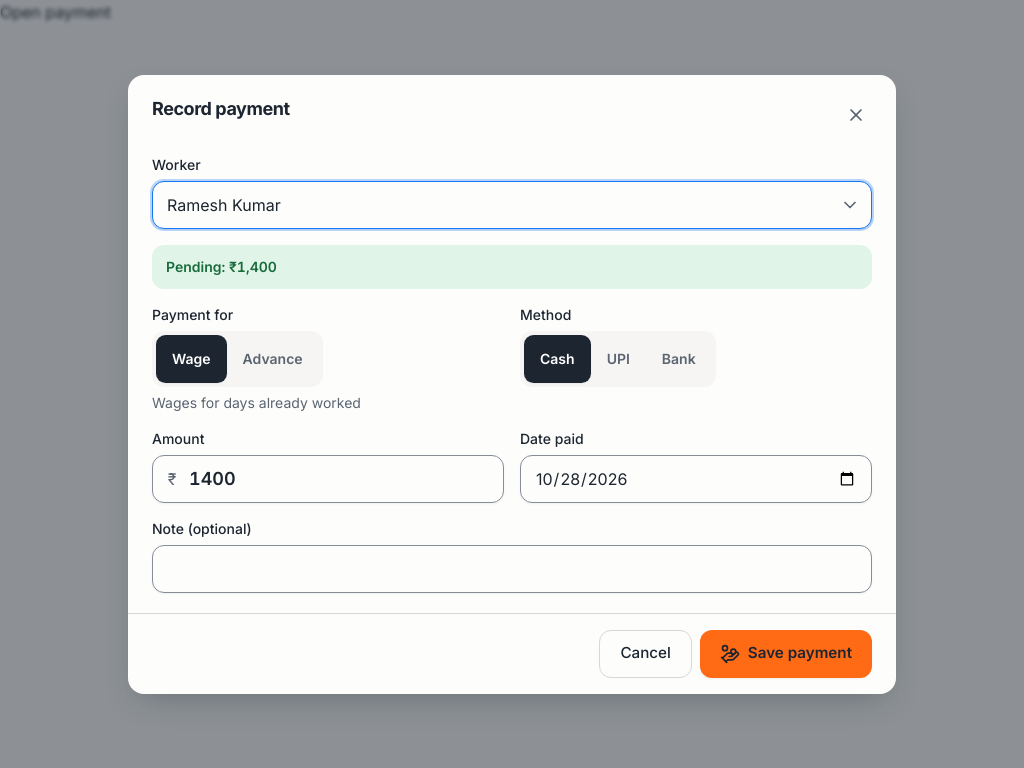
Test: RecordPaymentModal › shows one message for the amount "0"
Replace the text in the field labelled "Amount" with "0": {"x": 328, "y": 478} [152,454,504,502]
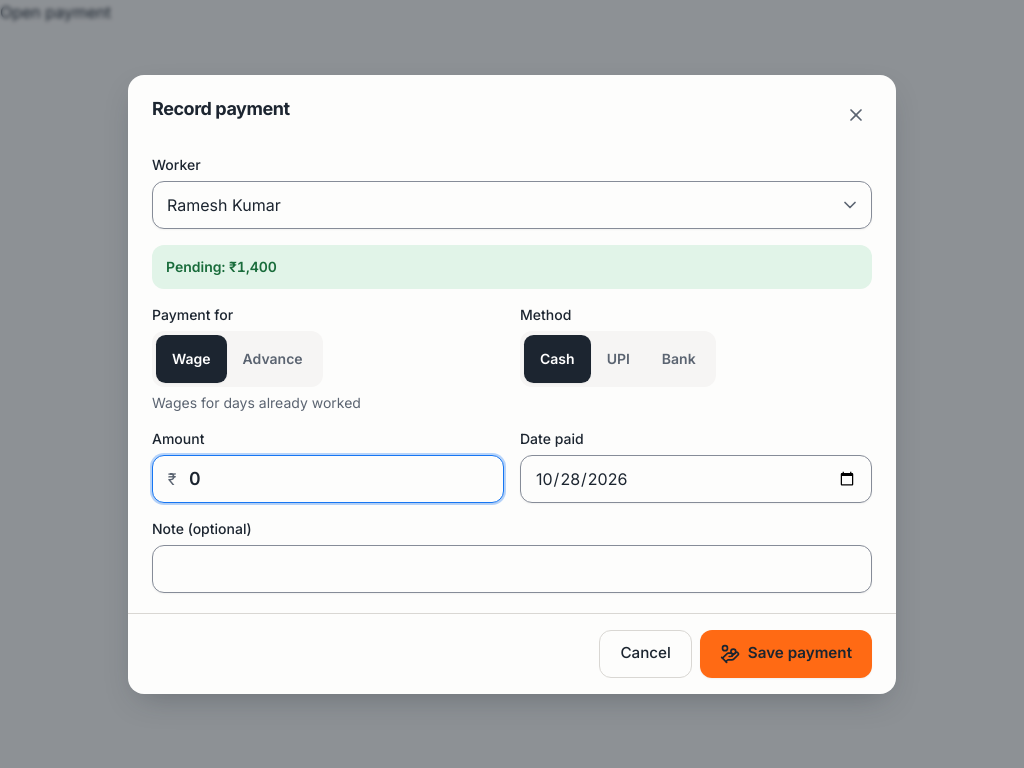
Click the button "Save payment": {"x": 786, "y": 654} [700,630,872,678]
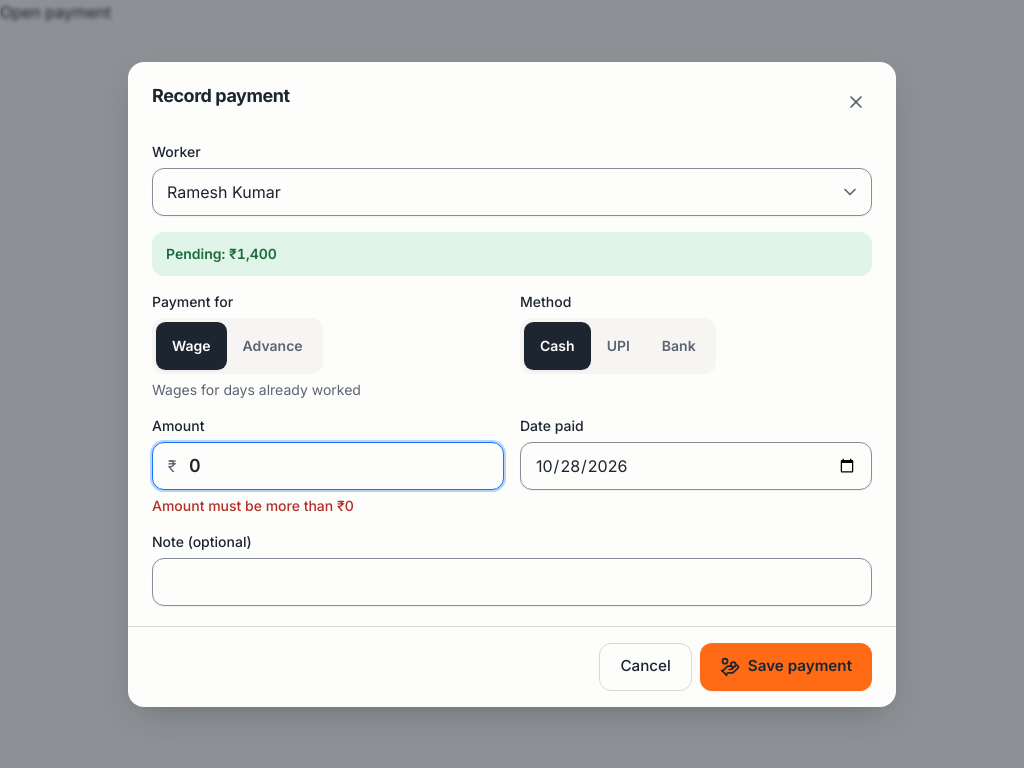
Expected: the text "Amount must be more than ₹0" is shown, [152,496,354,514]
